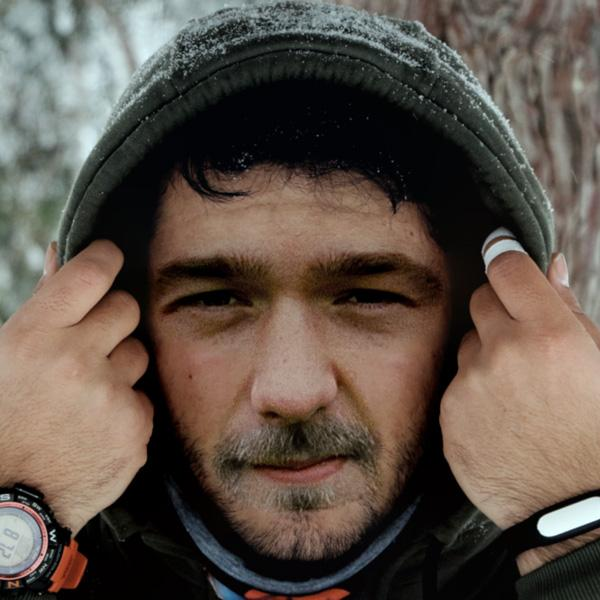Eyes: (321, 275, 421, 325), (165, 278, 259, 327)
